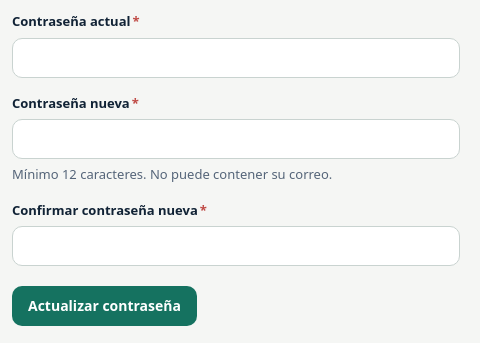
ChangePasswordForm › requires a new password different from the current one
The width and height of the screenshot is (480, 343).
Type "Obra-Segura-2026" into the password field labelled "Contraseña actual*". click: (236, 58)
box: x1=12 y1=38 x2=460 y2=78
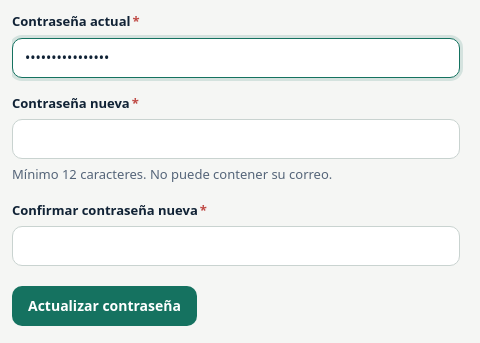
Type "Obra-Segura-2026" into the password field labelled "Contraseña nueva*". click: (236, 139)
box: x1=12 y1=119 x2=460 y2=159
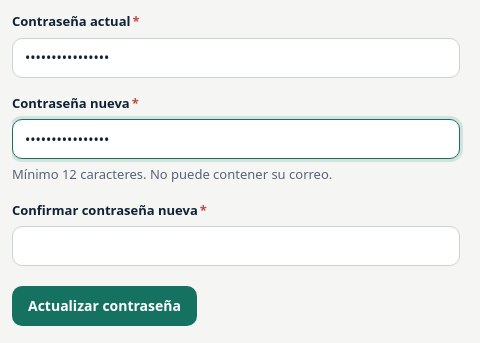
Type "Obra-Segura-2026" into the password field labelled "Confirmar contraseña nueva*". click: (236, 246)
box: x1=12 y1=226 x2=460 y2=266
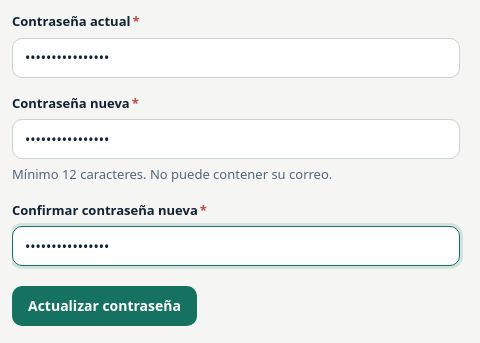
Click the button "Actualizar contraseña". click: click(104, 306)
box: x1=12 y1=286 x2=197 y2=326
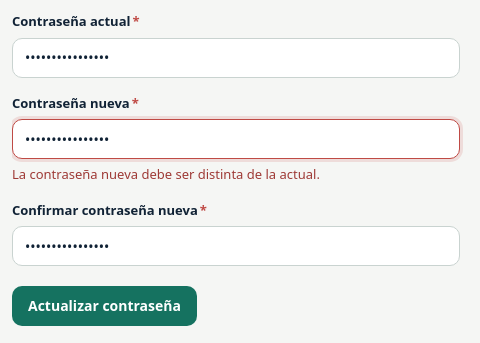
Now the text "La contraseña nueva debe ser distinta de la actual." is shown, box x1=12 y1=165 x2=320 y2=183
